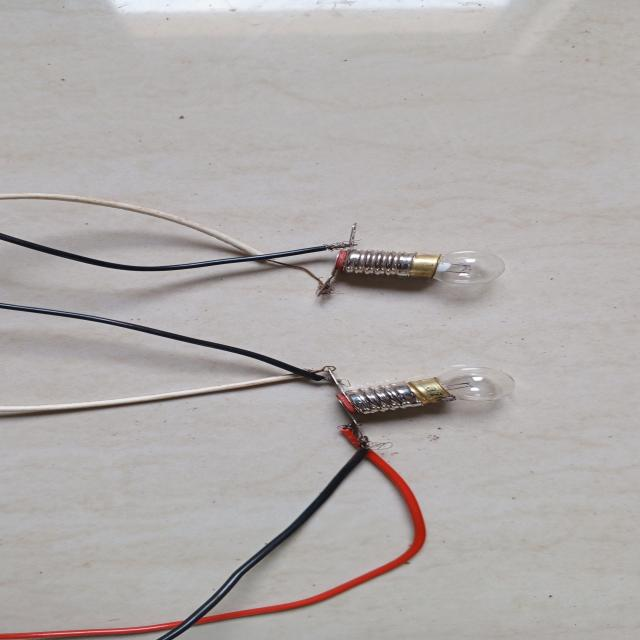Electric Bulbs: (262, 208, 530, 451)
